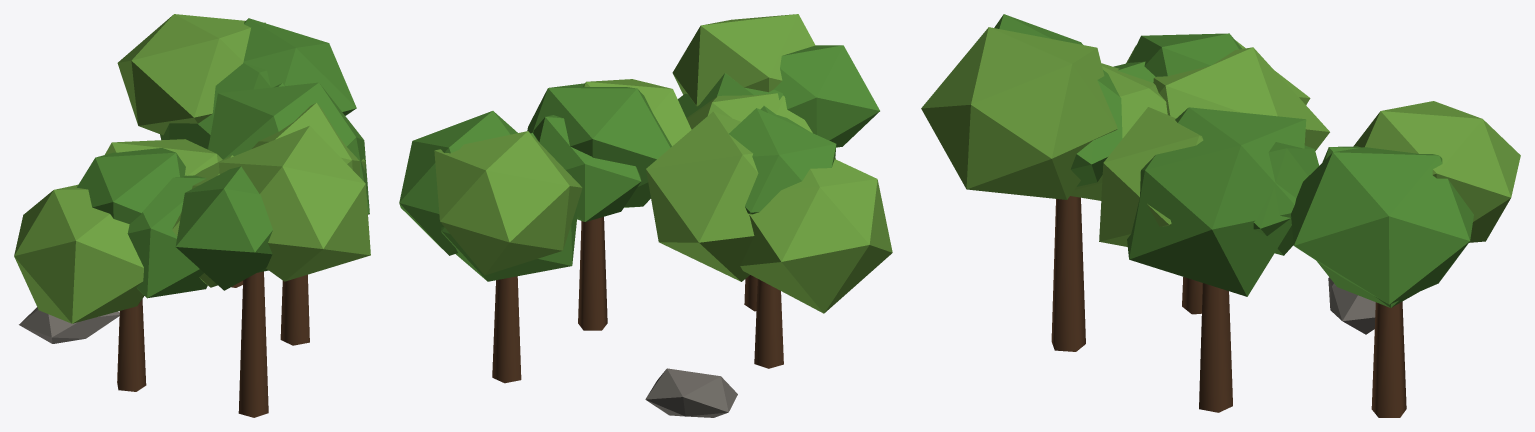
The model's file is sawyer_temperate_grove_a.glb.
The picture shows the model from 3 angles, left to right: view 1: azimuth 30°, elevation 25°; view 2: azimuth 150°, elevation 25°; view 3: azimuth 270°, elevation 25°; orthographic projection. The views are drawn at different scales.
Visible parts, largest first — view 1: oak_2_crown1, oak_0_crown3, oak_1_crown1, oak_2_crown2, oak_4_crown0, oak_0_crown2, oak_0_crown0, oak_1_crown2, oak_2_trunk, oak_0_trunk, oak_1_crown0, oak_4_trunk (+4 smaller); view 2: oak_1_crown1, oak_0_crown3, oak_0_crown1, oak_4_crown0, oak_2_crown1, oak_2_crown2, oak_0_crown0, oak_1_crown2, oak_4_crown2, rock_3_rock, oak_4_trunk, oak_1_trunk (+5 smaller); view 3: oak_2_crown1, oak_4_crown0, oak_1_crown2, oak_1_crown1, oak_0_crown1, oak_4_crown1, oak_2_trunk, oak_4_trunk, oak_1_trunk, oak_0_crown0, oak_4_crown2, oak_2_crown3 (+5 smaller).
Part boxes in pixels (x1=…): oak_2_crown1: x1=219, y1=125, x2=370, y2=281; oak_0_crown3: x1=14, y1=184, x2=144, y2=323; oak_1_crown1: x1=117, y1=14, x2=265, y2=135; oak_2_crown2: x1=175, y1=166, x2=272, y2=290; oak_4_crown0: x1=208, y1=82, x2=369, y2=214; oak_0_crown2: x1=127, y1=175, x2=207, y2=298; oak_0_crown0: x1=77, y1=148, x2=185, y2=223; oak_1_crown2: x1=243, y1=18, x2=356, y2=115; oak_2_trunk: x1=238, y1=271, x2=268, y2=417; oak_0_trunk: x1=117, y1=299, x2=146, y2=391; oak_1_crown0: x1=160, y1=63, x2=270, y2=148; oak_4_trunk: x1=280, y1=274, x2=309, y2=345; oak_1_crown1: x1=434, y1=131, x2=582, y2=275; oak_0_crown3: x1=740, y1=159, x2=892, y2=313; oak_0_crown1: x1=646, y1=111, x2=758, y2=281; oak_4_crown0: x1=527, y1=83, x2=671, y2=207; oak_2_crown1: x1=672, y1=14, x2=815, y2=106; oak_2_crown2: x1=774, y1=45, x2=879, y2=147; oak_0_crown0: x1=729, y1=108, x2=836, y2=214; oak_1_crown2: x1=399, y1=111, x2=517, y2=255; oak_4_crown2: x1=532, y1=115, x2=641, y2=221; rock_3_rock: x1=645, y1=368, x2=737, y2=417; oak_4_trunk: x1=578, y1=217, x2=607, y2=330; oak_1_trunk: x1=492, y1=276, x2=521, y2=383; oak_2_crown1: x1=921, y1=27, x2=1117, y2=199; oak_4_crown0: x1=1127, y1=107, x2=1306, y2=296; oak_1_crown2: x1=1291, y1=147, x2=1473, y2=304; oak_1_crown1: x1=1353, y1=101, x2=1520, y2=242; oak_0_crown1: x1=1153, y1=47, x2=1329, y2=150; oak_4_crown1: x1=1099, y1=107, x2=1203, y2=246; oak_2_trunk: x1=1051, y1=196, x2=1085, y2=351; oak_4_trunk: x1=1199, y1=283, x2=1232, y2=412; oak_1_trunk: x1=1371, y1=301, x2=1406, y2=417; oak_0_crown0: x1=1128, y1=33, x2=1242, y2=76; oak_4_crown2: x1=1253, y1=142, x2=1319, y2=255; oak_2_crown3: x1=1070, y1=63, x2=1167, y2=200.
Bounding box in the file's own units: 4.69 × 3.13 × 5.22.
